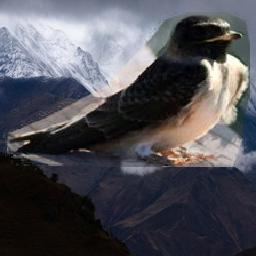Swallow: (4, 13, 251, 168)
